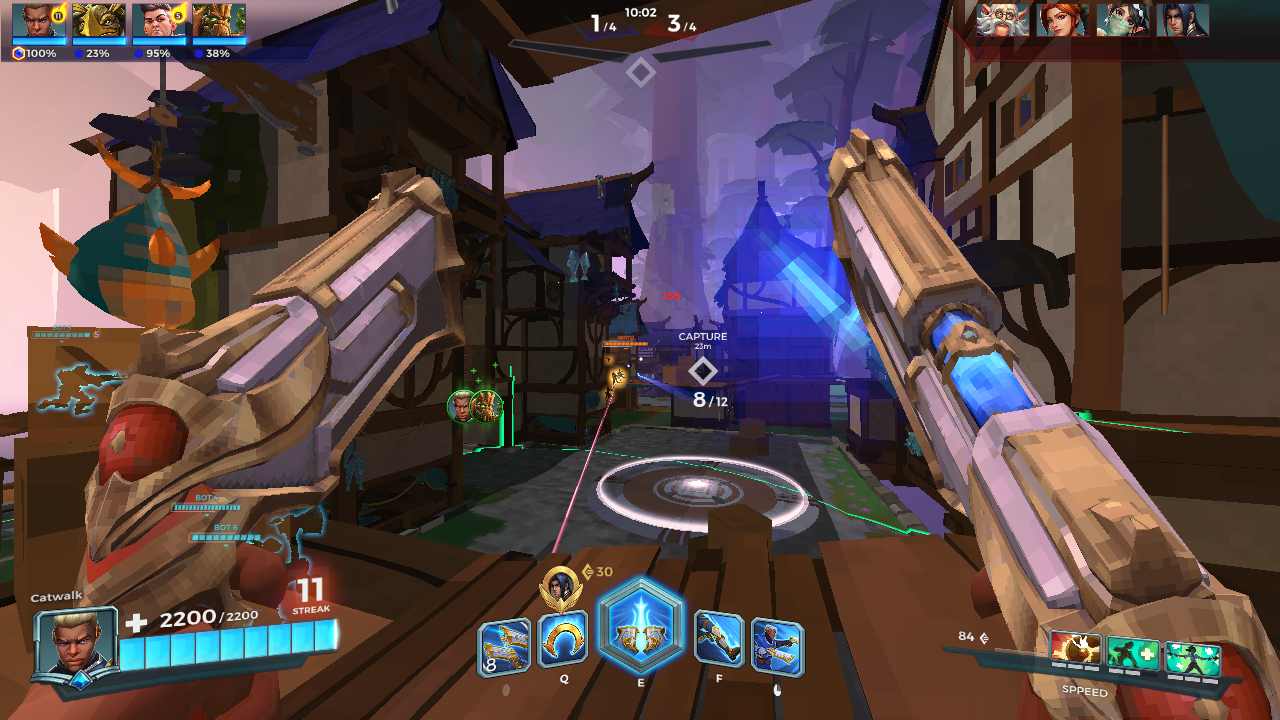model: (615, 367, 625, 385), (607, 372, 617, 384)
